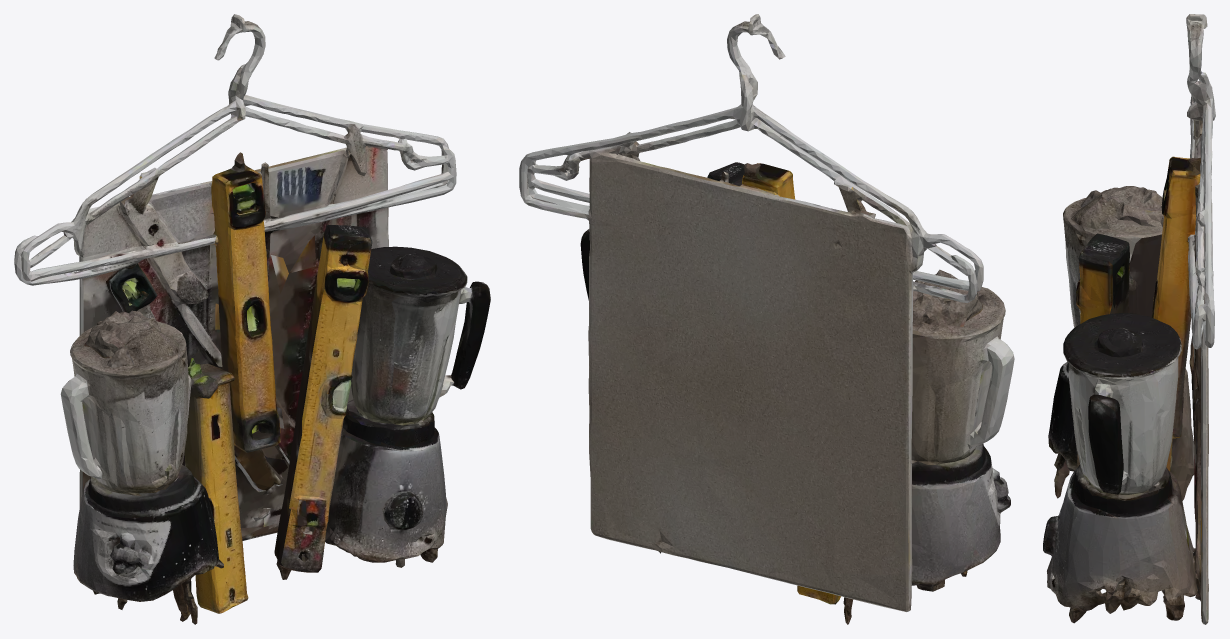
Rendered from belly (81).glb.
3 renders of one model, left to right at view 1: azimuth 30°, elevation 25°; view 2: azimuth 150°, elevation 25°; view 3: azimuth 270°, elevation 25°, orthographic. The views are drawn at different scales.
Visible parts, largest first — view 1: Hy21_Mesh.obj; view 2: Hy21_Mesh.obj; view 3: Hy21_Mesh.obj.
Part boxes in pixels (box(x1,y1,x2,y2)): Hy21_Mesh.obj: box(14, 14, 490, 624); Hy21_Mesh.obj: box(519, 14, 1014, 624); Hy21_Mesh.obj: box(1043, 14, 1215, 624).
Size of the model in its own units: 1.55 by 1.96 by 0.5245.
1 material, 1 textured.
